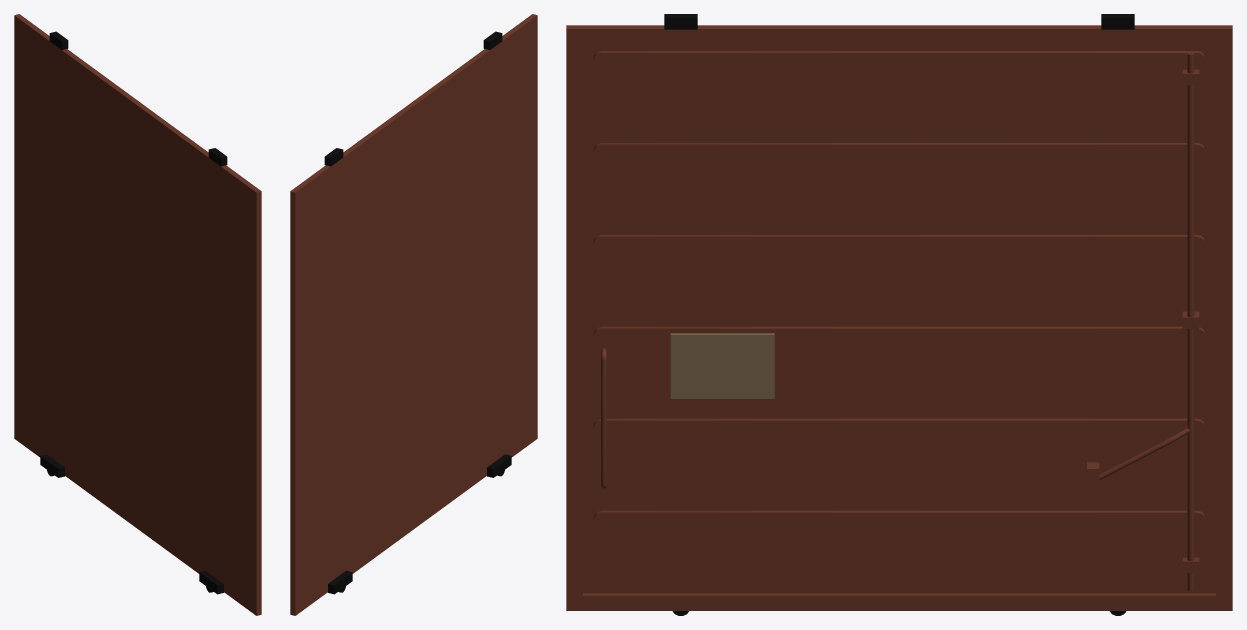
Rendered from door_up.glb.
3 views of the same model, side by side, from view 1: azimuth 30°, elevation 25°; view 2: azimuth 150°, elevation 25°; view 3: azimuth 270°, elevation 25° (orthographic). The views are drawn at different scales.
Visible parts, largest first — view 1: Door, Dark; view 2: Door, Dark; view 3: Door, TackBoard, Dark.
Boxes of the visible parts, <box> form: Door: <box>14,14,261,615</box>; Dark: <box>40,31,227,594</box>; Door: <box>290,14,537,615</box>; Dark: <box>324,31,511,594</box>; Door: <box>566,25,1232,610</box>; TackBoard: <box>670,333,774,398</box>; Dark: <box>664,14,1134,615</box>.
Size of the model in its own units: 0.16 by 3.18 by 3.2.
